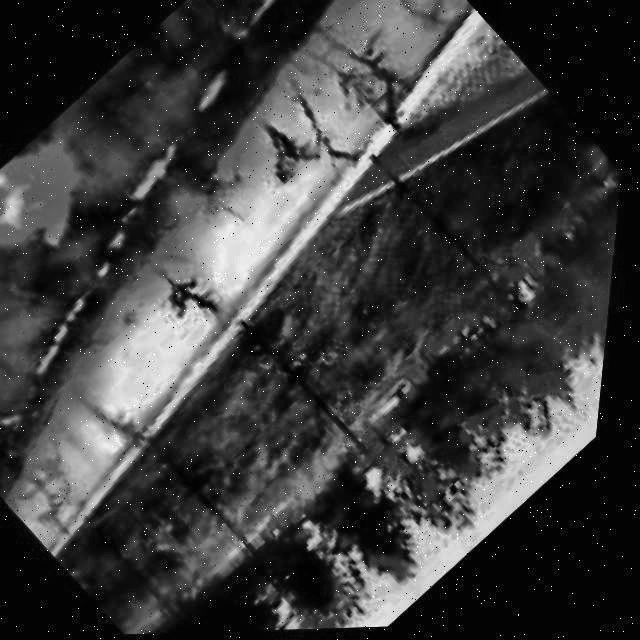Fire: (0, 125, 111, 314)
